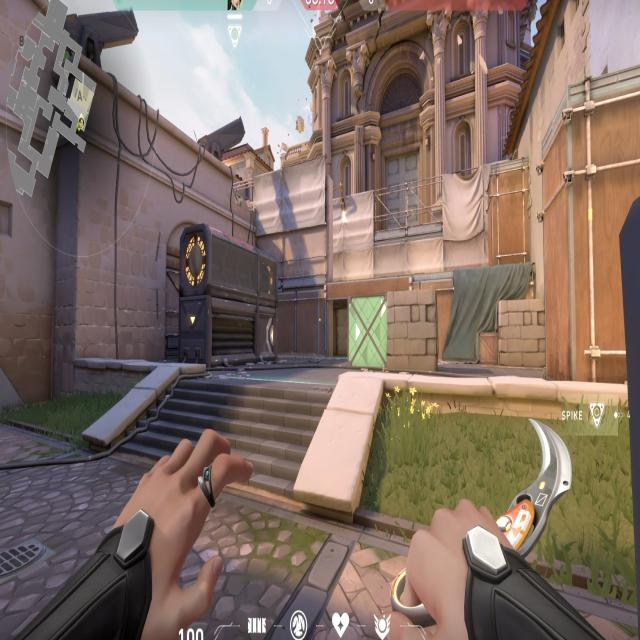A_Heaven_Box: (477, 150, 538, 278)
A_Heaven_Wall: (263, 156, 341, 284)
A_Site_Box: (343, 288, 439, 379)
